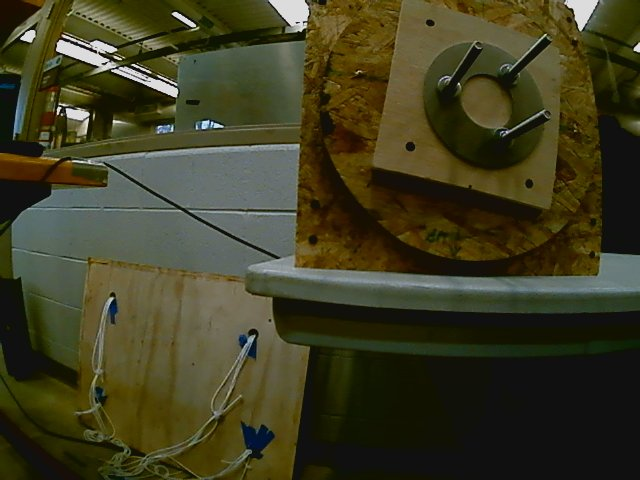bolt: (540, 107, 553, 122), (472, 40, 484, 51), (543, 32, 553, 45)
